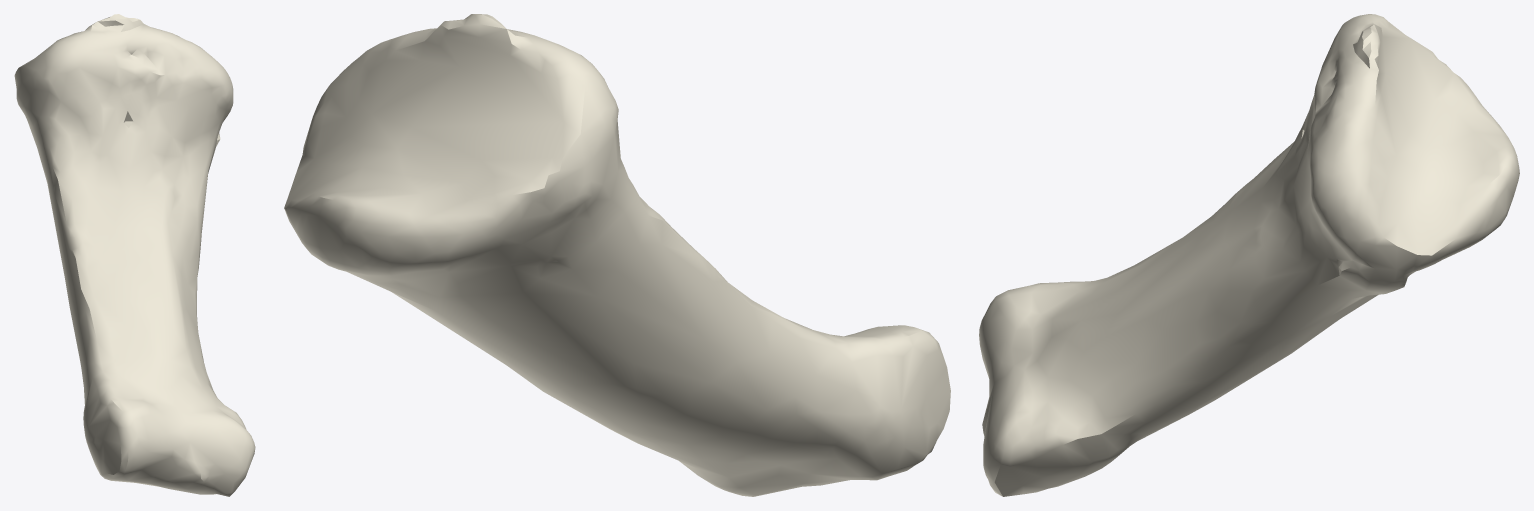
Rendered from fma24455_mm1907.glb.
The picture shows the model from 3 angles, left to right: view 1: azimuth 30°, elevation 25°; view 2: azimuth 150°, elevation 25°; view 3: azimuth 270°, elevation 25°; orthographic projection. The views are drawn at different scales.
Visible parts, largest first — view 1: FMA24455_MM1907; view 2: FMA24455_MM1907; view 3: FMA24455_MM1907.
Part boxes in pixels (x1,y1,x2,y2): FMA24455_MM1907: (14, 14, 255, 496); FMA24455_MM1907: (284, 14, 950, 496); FMA24455_MM1907: (979, 14, 1519, 496).
Bounding box in the file's own units: 0.0147 × 0.0207 × 0.0209.
